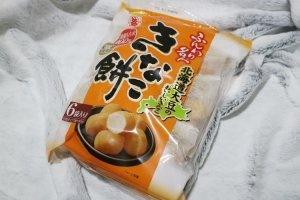snack: (46, 0, 255, 200)
